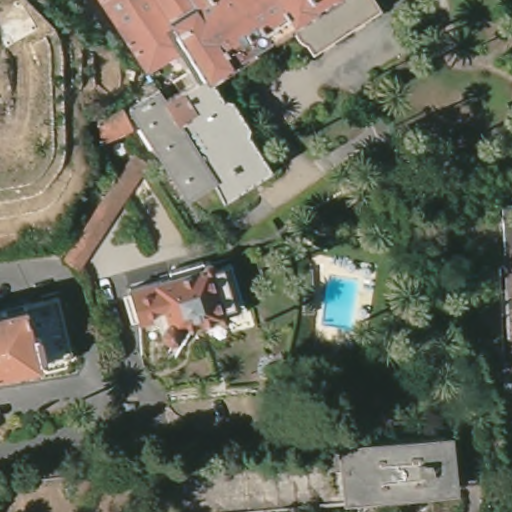pool: (315, 269, 367, 334)
